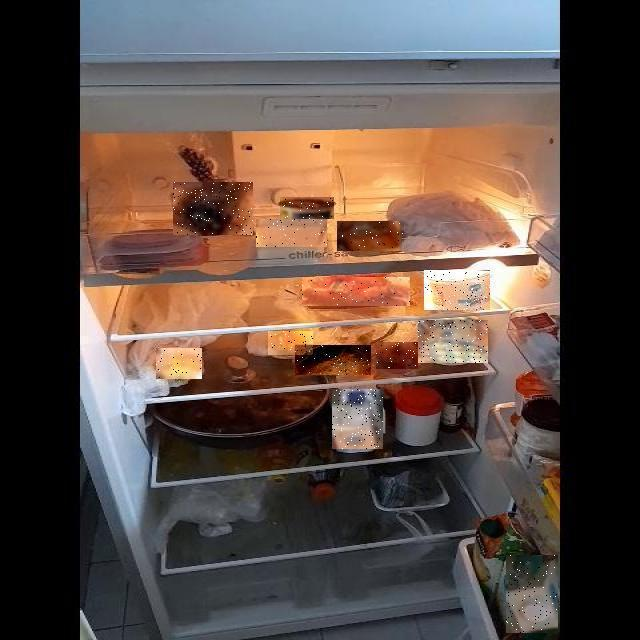Bread: (173, 182, 253, 235)
Butter: (338, 221, 404, 251)
Carrot: (302, 277, 410, 306)
Cheese: (256, 219, 327, 247)
Chillies: (295, 345, 371, 375)
Lemon: (156, 348, 202, 379), (268, 331, 313, 355)
Milk: (506, 555, 558, 633), (332, 389, 383, 449)
Tomato Paste: (376, 342, 418, 369)
Yoghurt: (418, 320, 488, 363), (424, 270, 490, 310), (280, 197, 334, 219)
